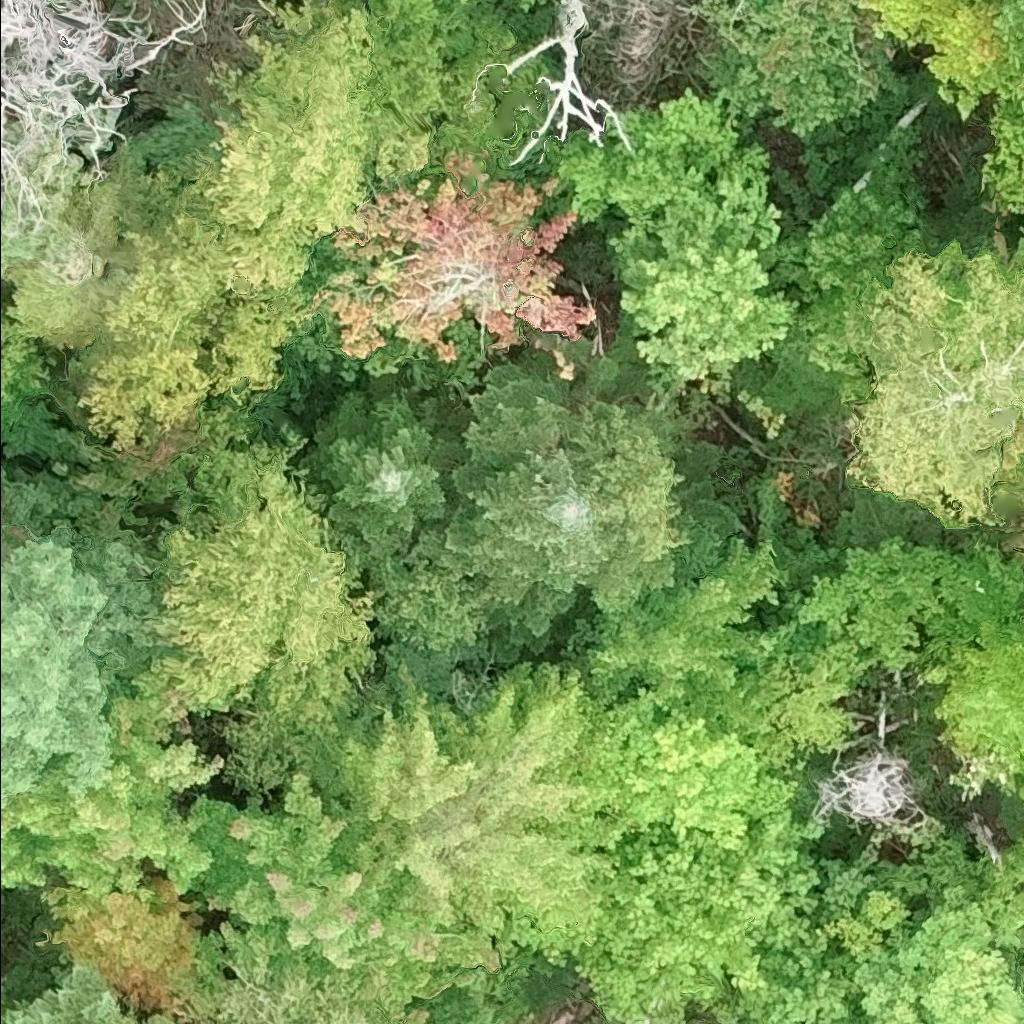crown: (491, 685, 826, 1023), (415, 358, 744, 659), (297, 663, 637, 940), (146, 428, 376, 799), (544, 89, 797, 426), (562, 482, 858, 762), (189, 774, 511, 1023), (69, 152, 307, 451), (305, 143, 595, 388), (202, 0, 432, 287), (0, 662, 223, 897), (847, 240, 1023, 529), (727, 827, 979, 1023), (0, 530, 172, 805), (349, 0, 552, 165), (505, 0, 699, 168), (2, 145, 149, 352), (795, 539, 1023, 672), (693, 0, 904, 142), (756, 144, 943, 303), (831, 888, 1023, 1023), (298, 390, 445, 560), (920, 610, 1023, 802), (857, 0, 1008, 124), (812, 713, 933, 841), (197, 954, 410, 1023), (763, 295, 881, 415), (13, 967, 170, 1023), (791, 0, 902, 62), (978, 88, 1023, 217), (973, 825, 1023, 940), (0, 318, 57, 415), (994, 0, 1023, 106), (993, 420, 1023, 480), (0, 977, 30, 1023), (460, 0, 551, 12), (1022, 494, 1023, 503)
